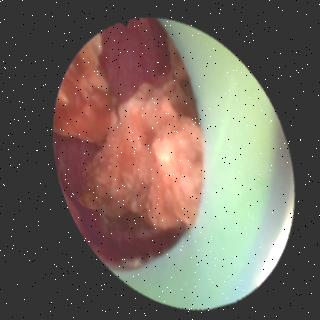stone: (53, 35, 198, 234)
